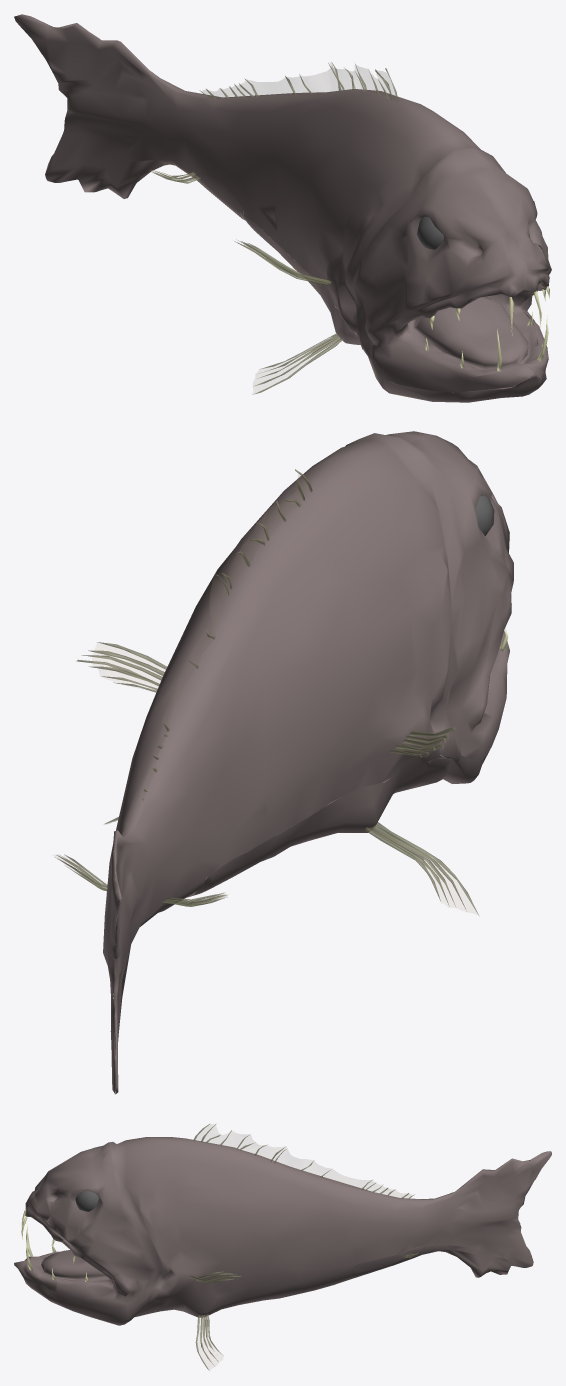
File: fish_-_deep_sea.glb
3 views of the same model, one above another, from view 1: azimuth 30°, elevation 25°; view 2: azimuth 150°, elevation 25°; view 3: azimuth 270°, elevation 25° (orthographic). The views are drawn at different scales.
Parts seen in each view (by area): view 1: Object_2; view 2: Object_2; view 3: Object_2.
Part boxes in pixels (left/top/right/bottom): Object_2: left=14, top=14, right=551, bottom=402; Object_2: left=54, top=431, right=513, bottom=1094; Object_2: left=14, top=1123, right=551, bottom=1370.
Size of the model in its own units: 5.07 by 5.18 by 12.55.
